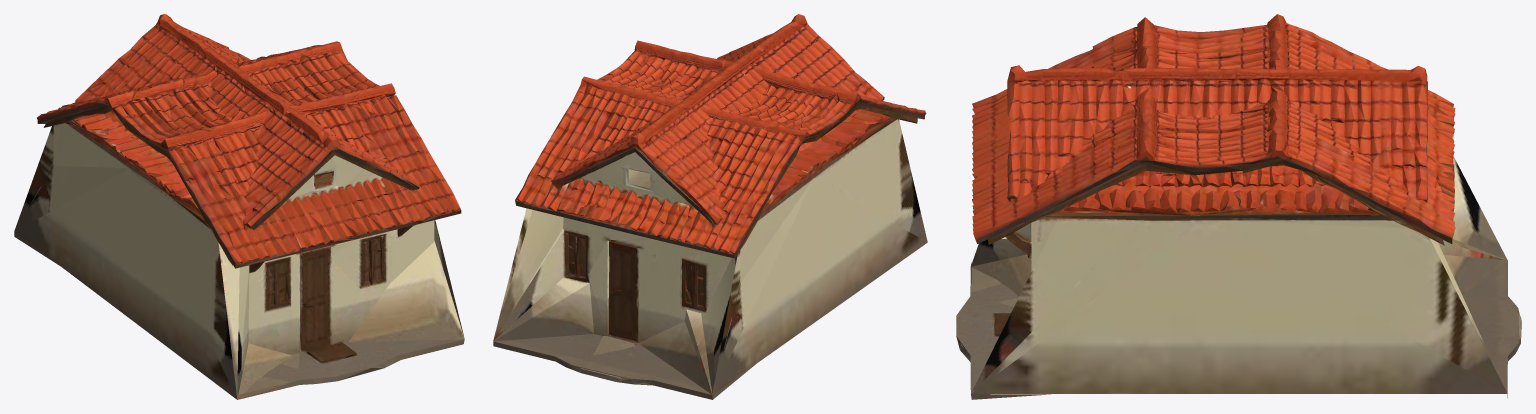
File: farmhouse.glb
3 renders of one model, left to right at view 1: azimuth 30°, elevation 25°; view 2: azimuth 150°, elevation 25°; view 3: azimuth 270°, elevation 25°, orthographic. The views are drawn at different scales.
Parts seen in each view (by area): view 1: output_unwrapped; view 2: output_unwrapped; view 3: output_unwrapped.
Boxes of the visible parts, x1,y1,x2,y2 form: output_unwrapped: (14, 14, 464, 399); output_unwrapped: (493, 14, 927, 399); output_unwrapped: (956, 14, 1521, 399).
Size of the model in its own units: 1.08 by 0.9938 by 1.9.
Materials: 1 (1 with a texture image).
